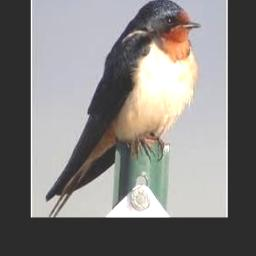Swallow: (45, 0, 201, 217)
